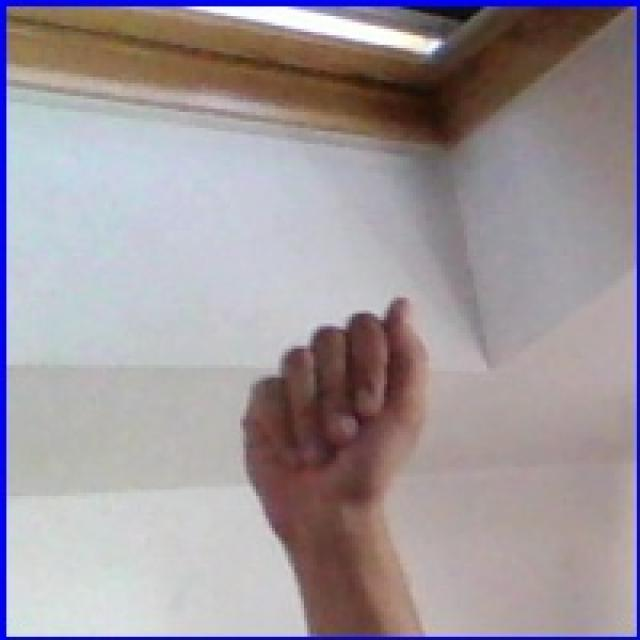Letra A: (210, 281, 459, 585)
